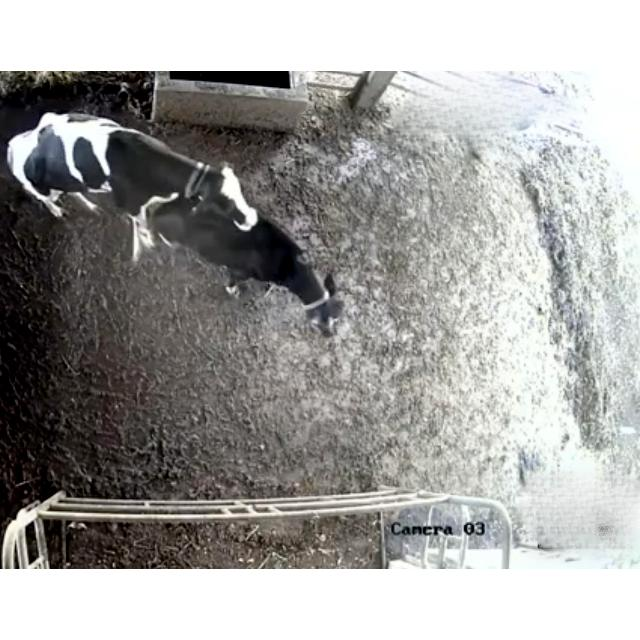ride: (0, 106, 258, 266)
